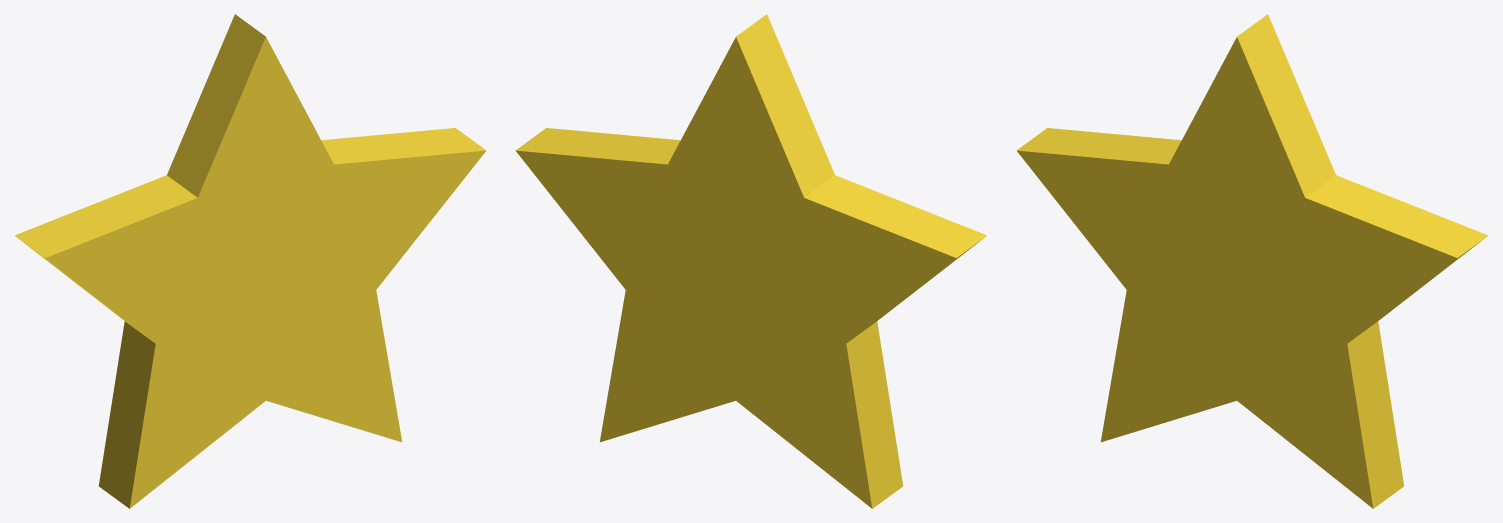
The model's file is 3D_star.fbx.
The picture shows the model from 3 angles, left to right: view 1: azimuth 30°, elevation 25°; view 2: azimuth 150°, elevation 25°; view 3: azimuth 330°, elevation 25°; orthographic projection.
Visible parts, largest first — view 1: Star; view 2: Star; view 3: Star.
Boxes of the visible parts, x1,y1,x2,y2 form: Star: [15, 14, 486, 508]; Star: [515, 14, 986, 508]; Star: [1016, 14, 1487, 508].
Bounding box in the file's own units: 15.62 × 14.85 × 1.9.
